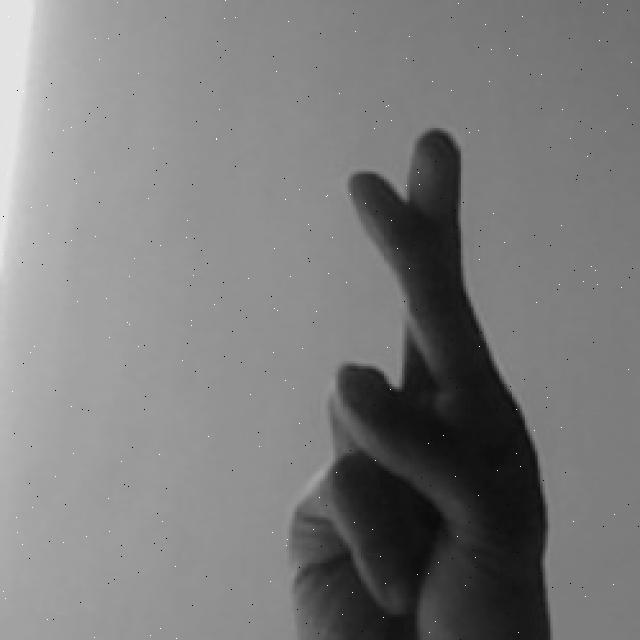R: (274, 123, 560, 640)
